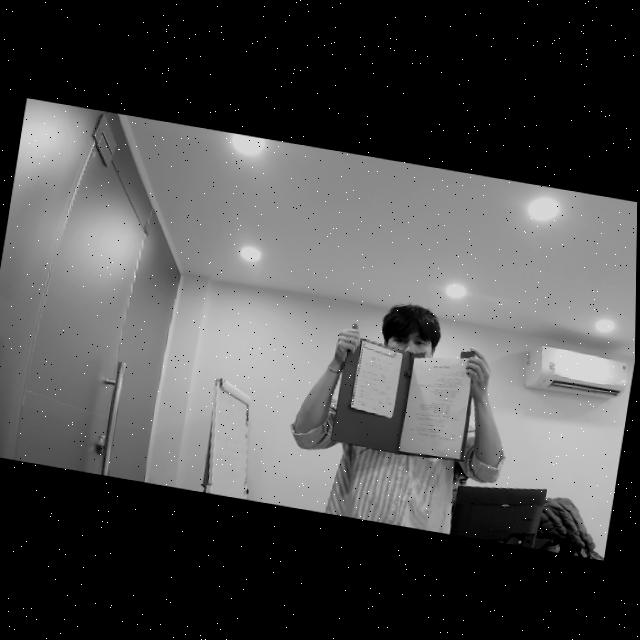document: (399, 358, 474, 459), (351, 341, 403, 419)
